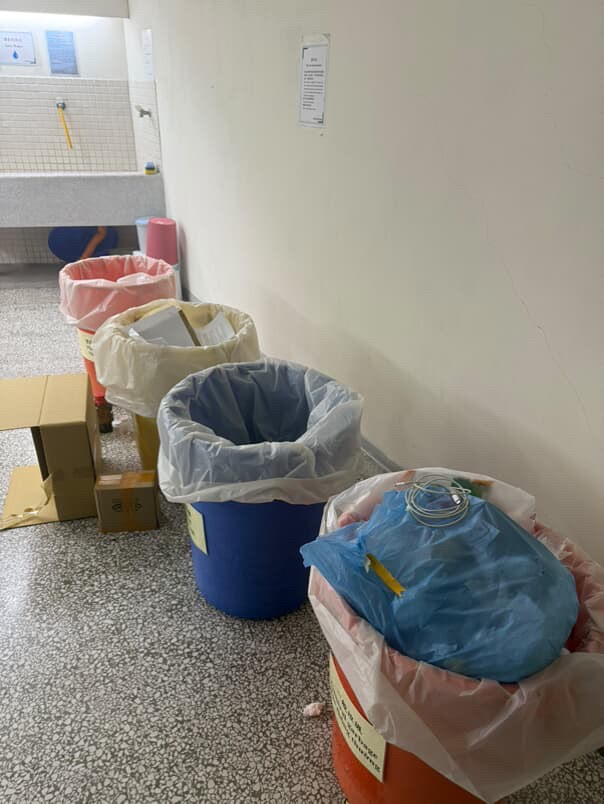overflow_bin: (296, 462, 604, 804)
